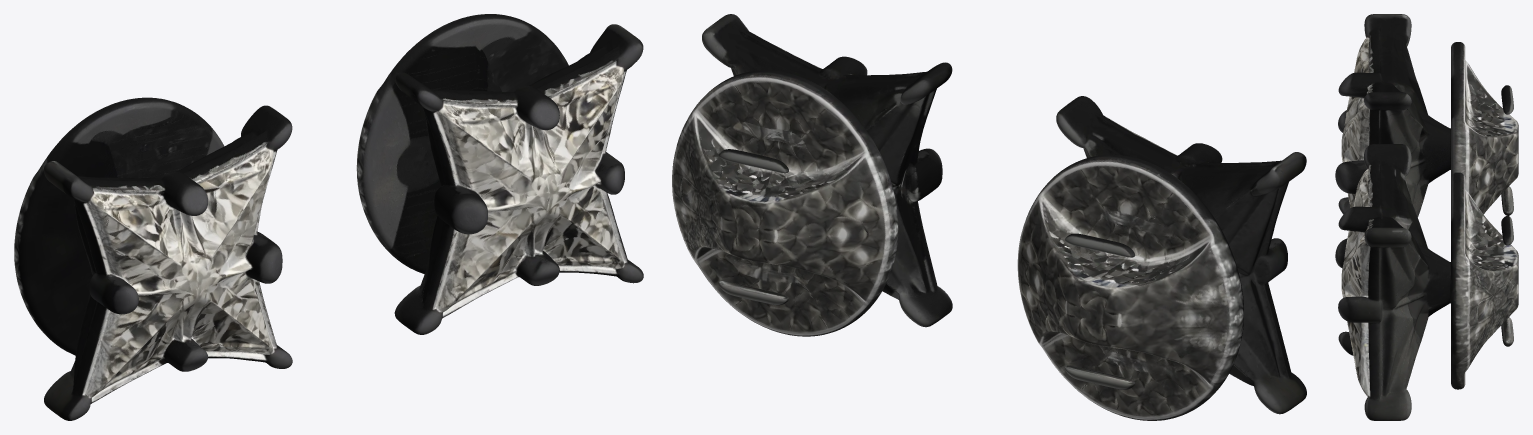
The model's file is star-cluster-stud-earrings-opt.glb.
3 views of the same model, side by side, from view 1: azimuth 30°, elevation 25°; view 2: azimuth 150°, elevation 25°; view 3: azimuth 270°, elevation 25° (orthographic). The views are drawn at different scales.
Parts seen in each view (by area): view 1: mesh_node; view 2: mesh_node; view 3: mesh_node.
Boxes of the visible parts, x1,y1,x2,y2 form: mesh_node: [14, 14, 643, 420]; mesh_node: [672, 14, 1306, 420]; mesh_node: [1335, 14, 1518, 420].
Size of the model in its own units: 1.9 by 0.8019 by 0.6654.
Materials: 1 (1 with a texture image).
